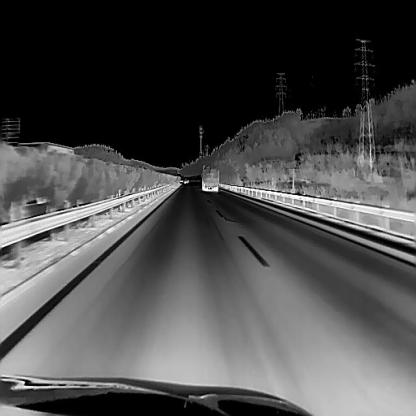truck: (200, 163, 219, 191)
